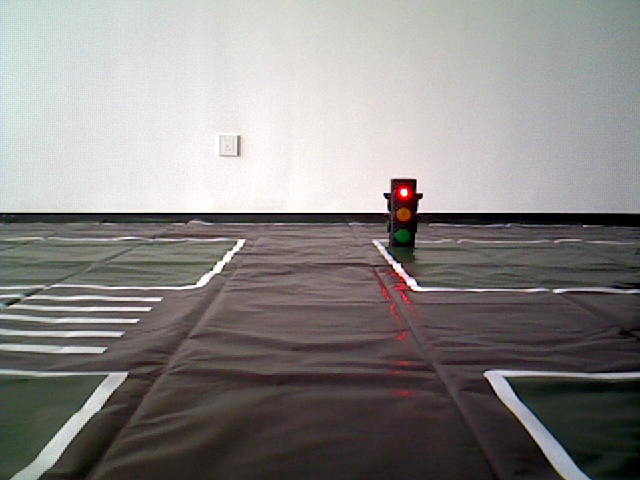red: (390, 183, 413, 250)
